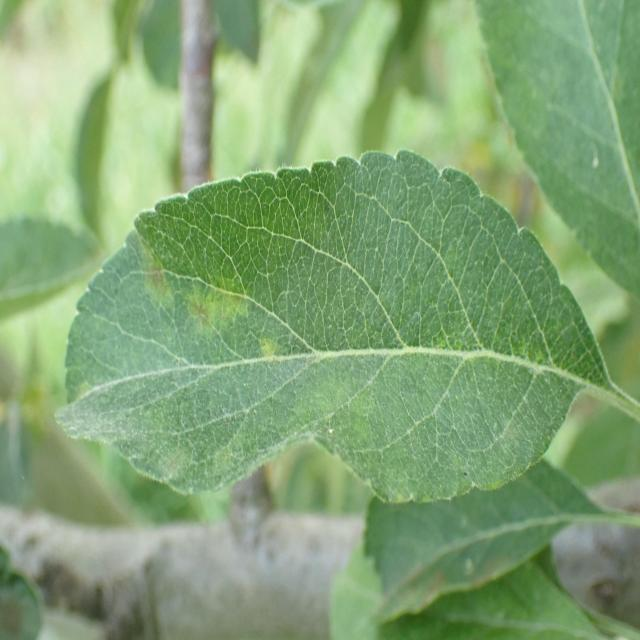scab: (83, 190, 580, 458)
